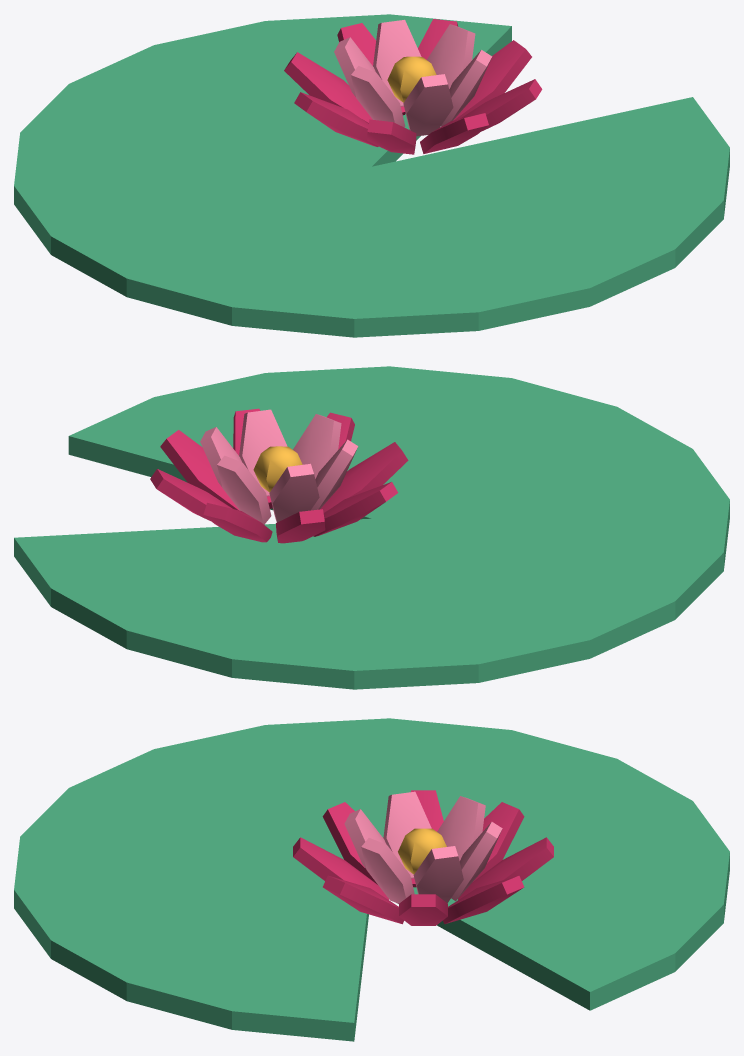
File: W3_Lilypad_A.fbx
The picture shows the model from 3 angles, top to bottom: view 1: azimuth 30°, elevation 25°; view 2: azimuth 150°, elevation 25°; view 3: azimuth 270°, elevation 25°; orthographic projection.
Parts seen in each view (by area): view 1: W3_Lilypad_A; view 2: W3_Lilypad_A; view 3: W3_Lilypad_A.
Part boxes in pixels (<box>): W3_Lilypad_A: <box>14,14,729,337</box>; W3_Lilypad_A: <box>14,366,729,689</box>; W3_Lilypad_A: <box>14,718,729,1041</box>.
Bounding box in the file's own units: 2.8 × 0.4354 × 2.78.
